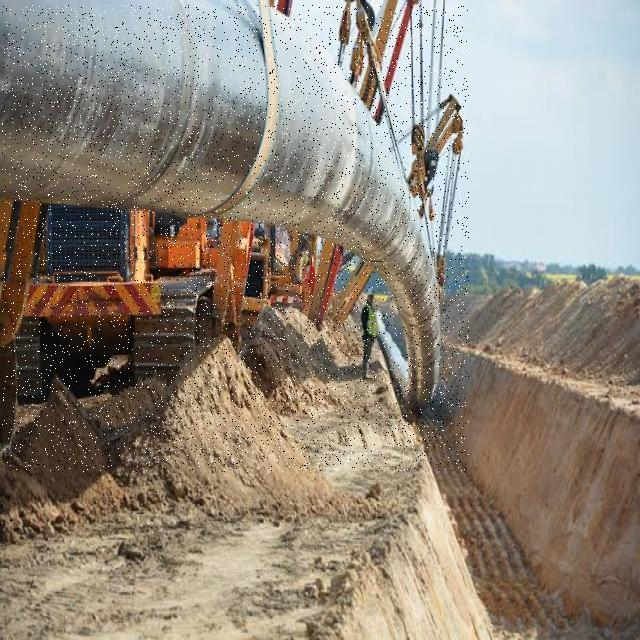gas: (0, 0, 440, 411)
